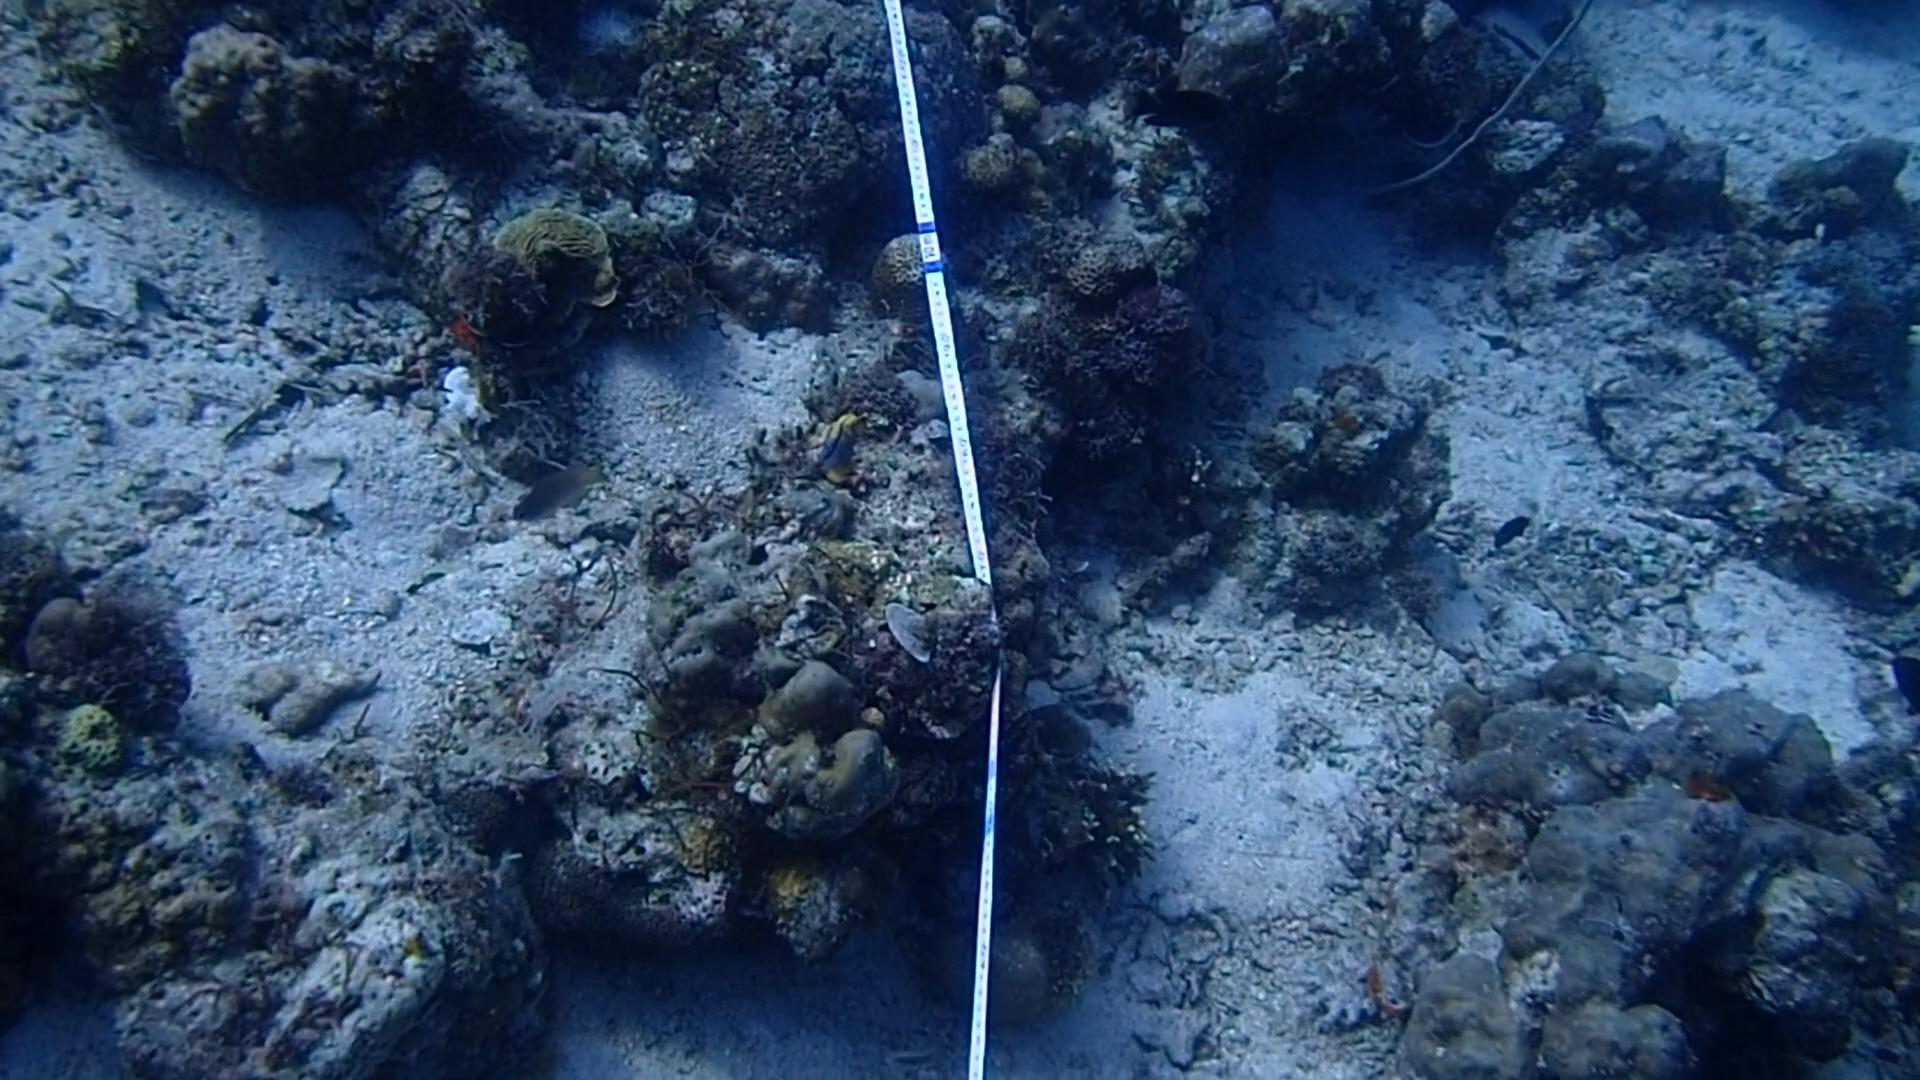Dark Fish: (1116, 74, 1230, 136), (1484, 505, 1531, 551), (1890, 646, 1920, 711)
Light Fish: (505, 454, 613, 530)
